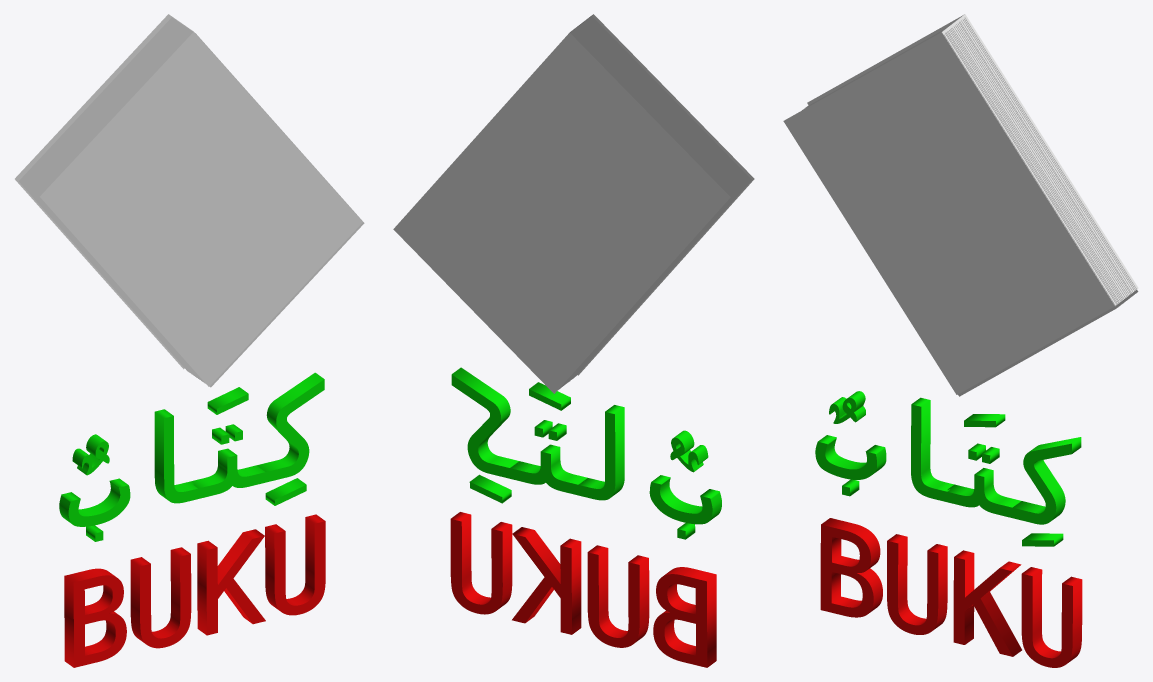
Rendered from book.fbx.
The picture shows the model from 3 angles, left to right: view 1: azimuth 30°, elevation 25°; view 2: azimuth 150°, elevation 25°; view 3: azimuth 330°, elevation 25°; orthographic projection.
Parts seen in each view (by area): view 1: sites, Text.004, Text, Plane.019, Text.003, Text.002, Text.001; view 2: sites, Text.004, Text, Plane.019, Text.003, Text.001, Text.002; view 3: sites, Text.004, Text, Plane.019, Text.003.
Part boxes in pixels (left/top/right/bottom): sites: left=15, top=14, right=362, bottom=386; Text.004: left=64, top=514, right=325, bottom=667; Text: left=59, top=372, right=324, bottom=541; Plane.019: left=18, top=17, right=364, bottom=387; Text.003: left=72, top=434, right=109, bottom=475; Text.002: left=207, top=387, right=248, bottom=414; Text.001: left=265, top=478, right=306, bottom=505; sites: left=393, top=14, right=754, bottom=393; Text.004: left=450, top=512, right=716, bottom=667; Text: left=451, top=367, right=721, bottom=539; Plane.019: left=558, top=16, right=751, bottom=389; Text.003: left=670, top=430, right=708, bottom=472; Text.001: left=469, top=474, right=511, bottom=503; Text.002: left=529, top=382, right=570, bottom=410; sites: left=783, top=14, right=1138, bottom=394; Text.004: left=820, top=518, right=1082, bottom=667; Text: left=815, top=397, right=1081, bottom=524; Plane.019: left=802, top=18, right=1138, bottom=396; Text.003: left=829, top=391, right=865, bottom=423.
Bounding box in the file's own units: 408 × 718 × 61.11.
